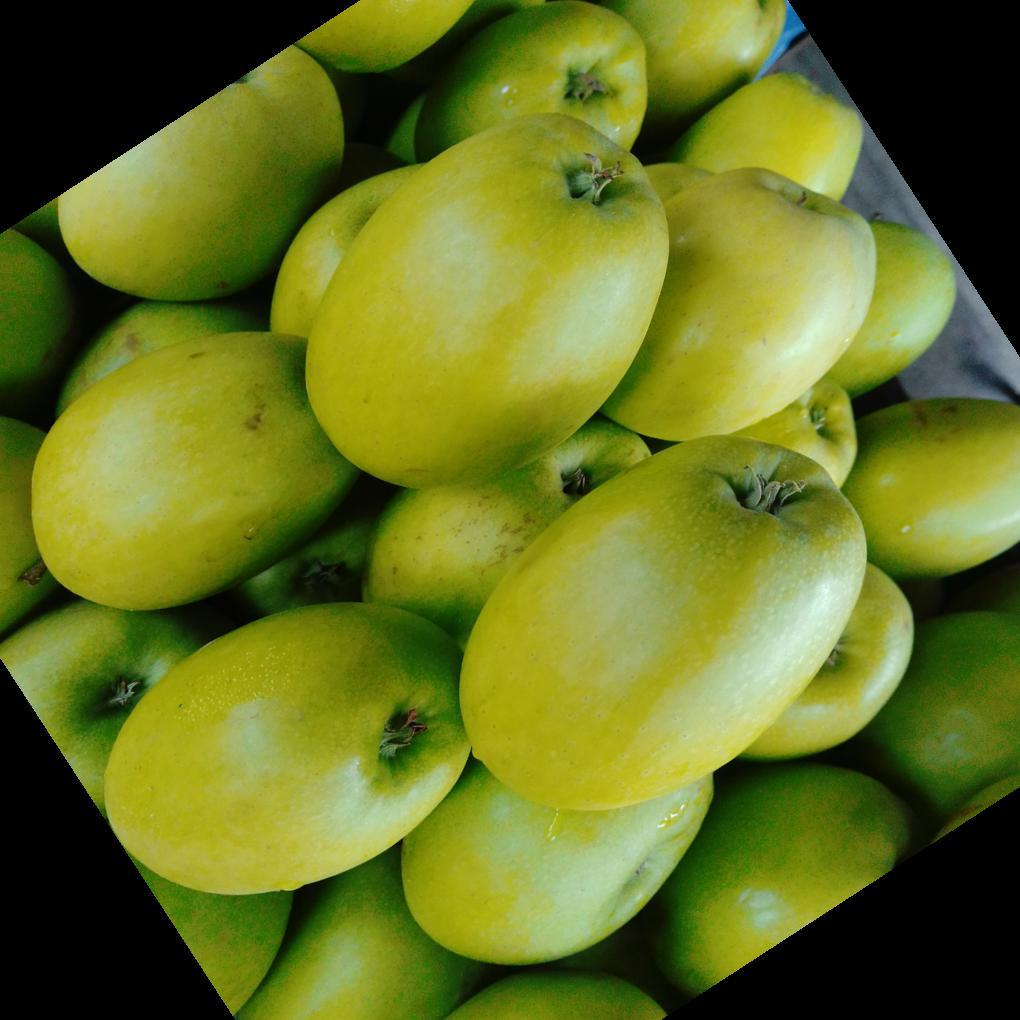FreshGuava: (21, 23, 1020, 1020)
